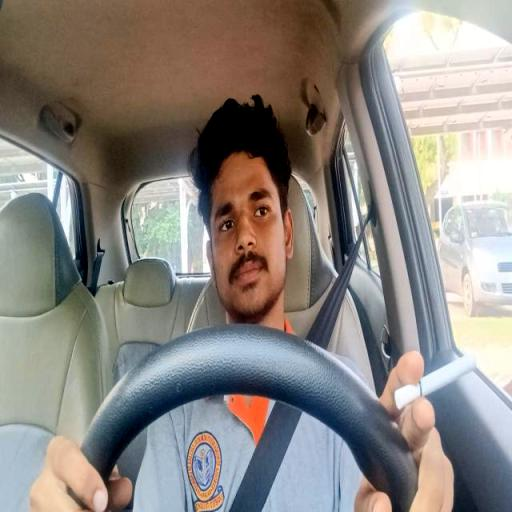Smoking: (29, 93, 480, 510)
